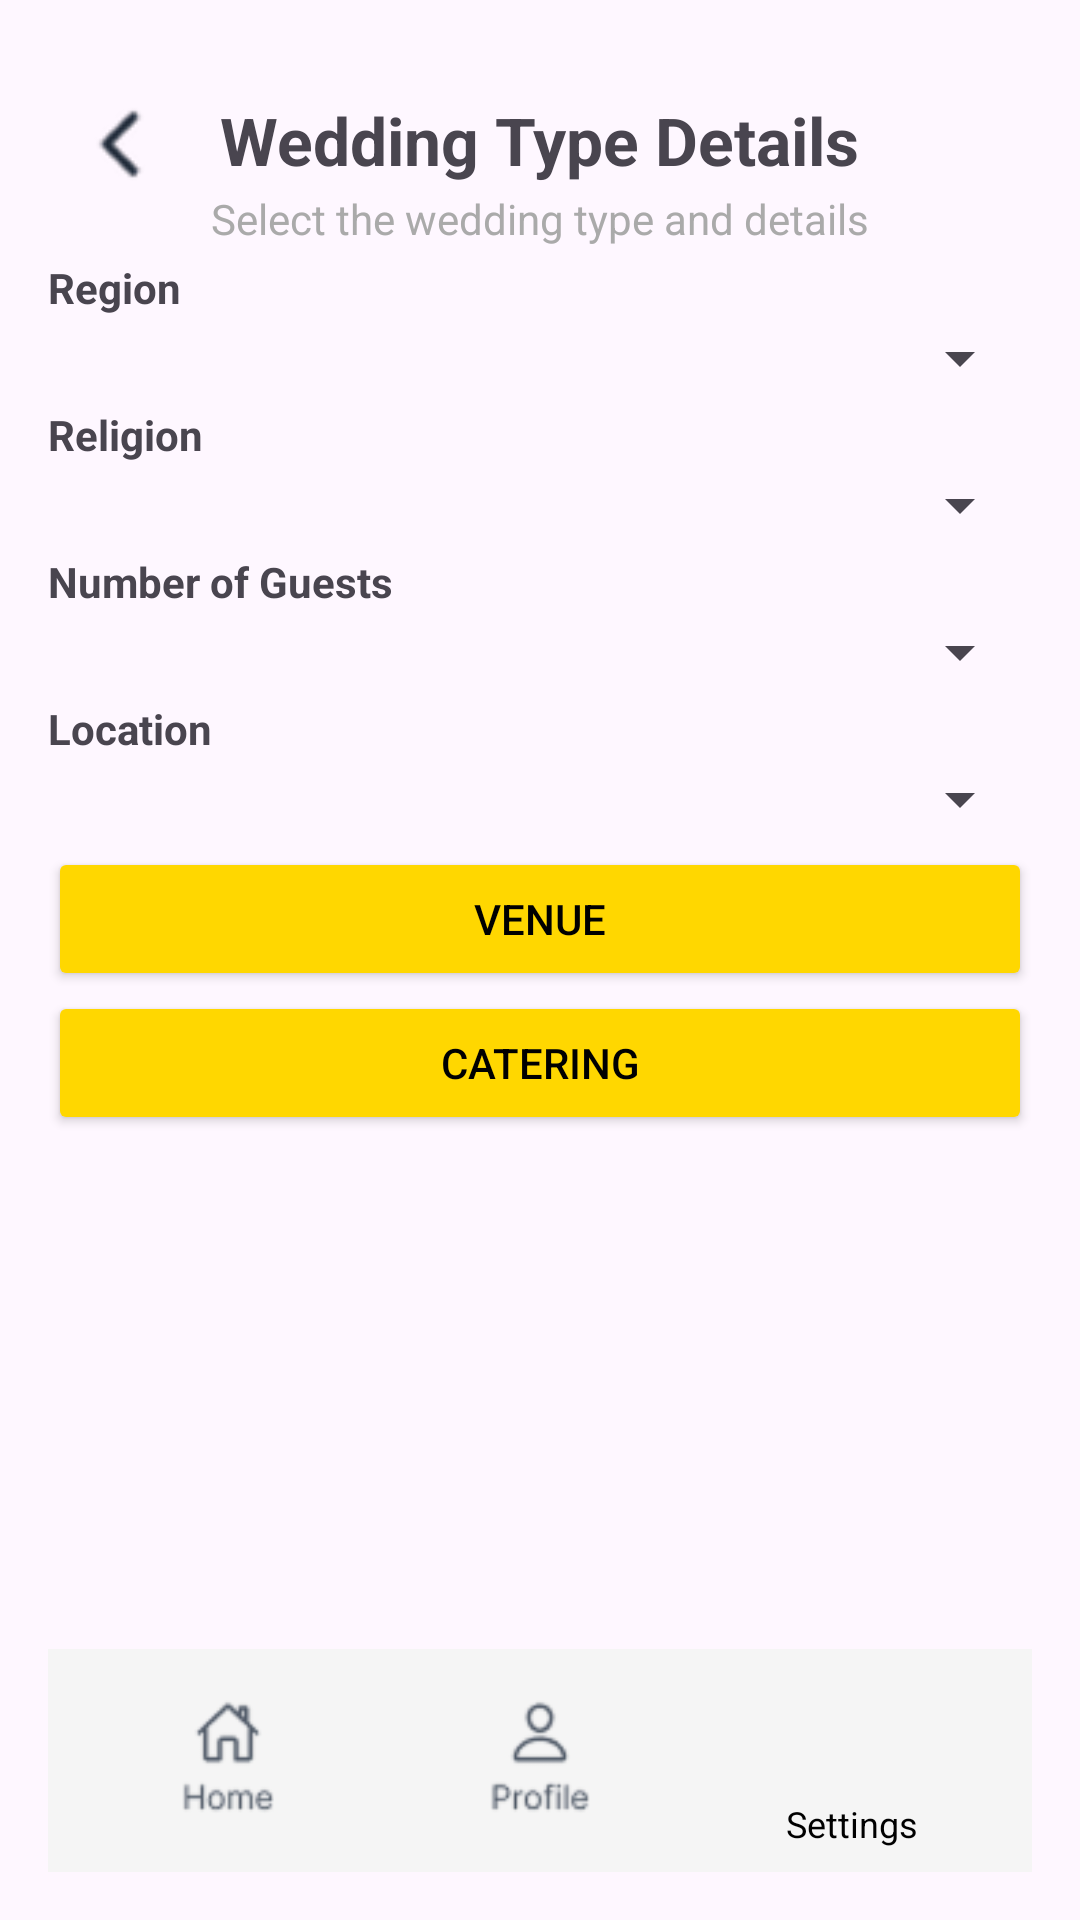

Icon click points for this 1080px x 1920px phone screenshot, format (x=x, y=y):
Back: (x=120, y=144)
